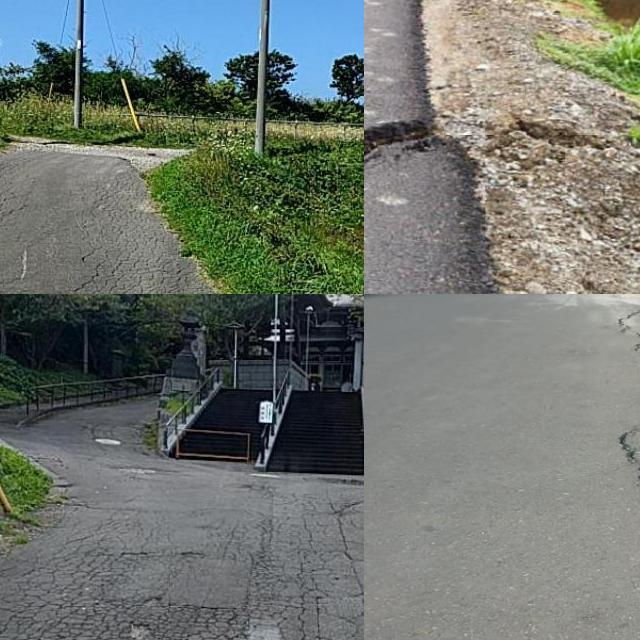Pinggir: (364, 109, 495, 294)
Retak Buaya: (0, 545, 250, 640), (78, 195, 218, 294)
